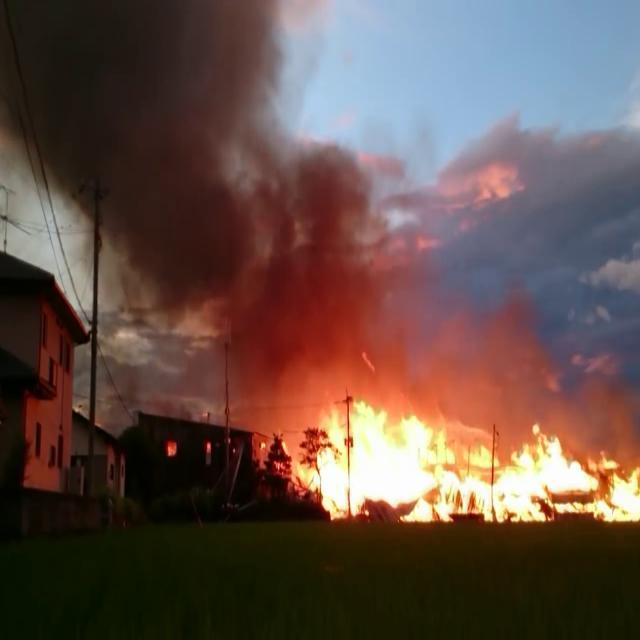Fire: (350, 398, 488, 518), (484, 423, 574, 518), (576, 449, 640, 519), (316, 412, 351, 520), (280, 438, 316, 496), (168, 438, 175, 456), (206, 442, 212, 449), (260, 442, 265, 448)
Smoke: (0, 0, 286, 206), (220, 138, 376, 418), (96, 208, 220, 332), (482, 305, 569, 424), (418, 296, 482, 398), (570, 363, 640, 442), (376, 294, 418, 407)
